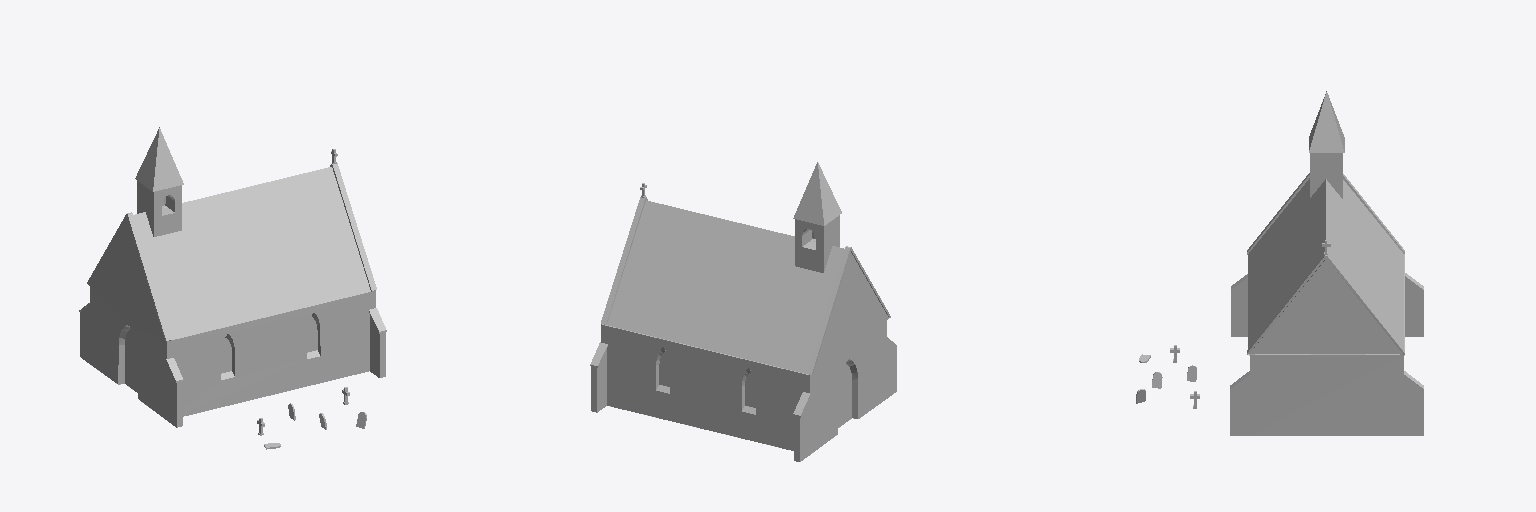
The model's file is church.obj.
3 views of the same model, side by side, from view 1: azimuth 30°, elevation 25°; view 2: azimuth 150°, elevation 25°; view 3: azimuth 270°, elevation 25° (orthographic).
Parts seen in each view (by area): view 1: church group3; view 2: church group3; view 3: church group3.
Boxes of the visible parts, <box> form: church group3: <box>79,127,386,449</box>; church group3: <box>590,162,896,461</box>; church group3: <box>1136,91,1423,435</box>.
Bounding box in the file's own units: 9 × 10.48 × 10.56.